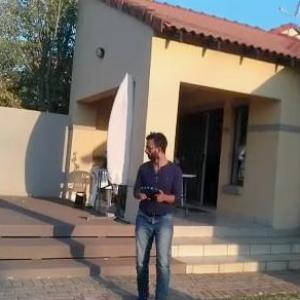follow: (126, 127, 186, 299)
